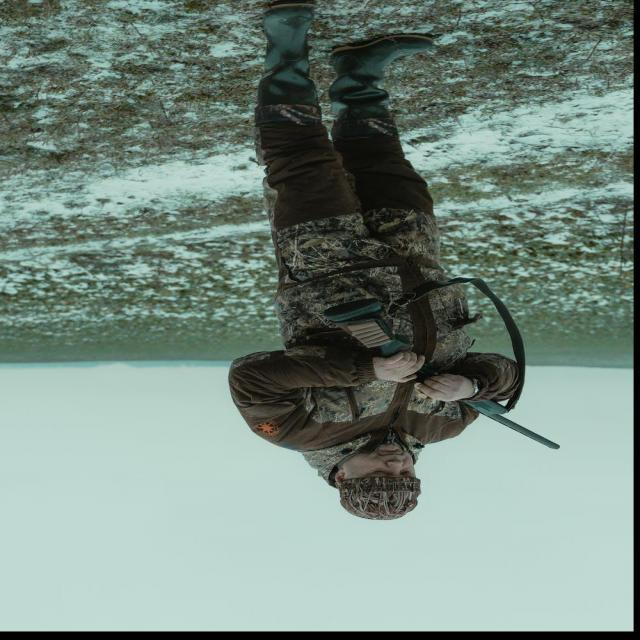weapon: (322, 298, 560, 451)
